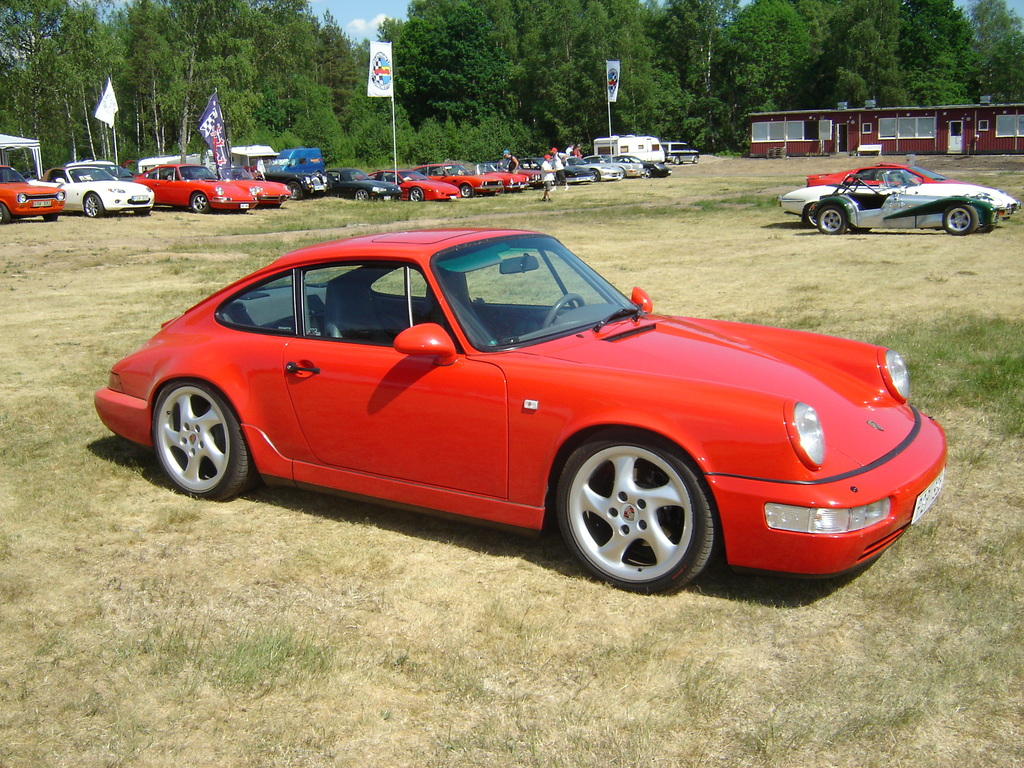Car: (100, 231, 927, 583), (774, 163, 1003, 232), (33, 158, 158, 218), (133, 156, 254, 216), (204, 153, 294, 209), (0, 159, 67, 226), (806, 159, 972, 186), (369, 165, 467, 200), (421, 159, 501, 199), (252, 158, 330, 196), (327, 165, 404, 199), (467, 158, 523, 193), (543, 151, 599, 184), (580, 147, 626, 186), (601, 151, 651, 183)
